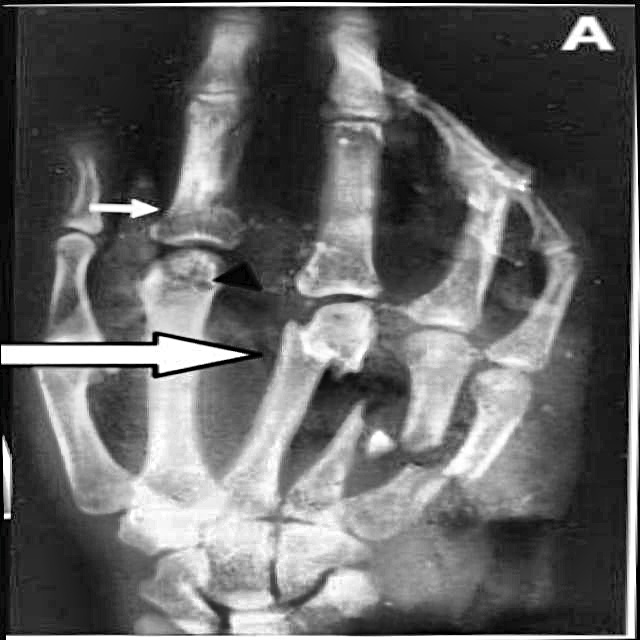Oblique Displaced: (254, 309, 380, 385)
Segmental: (308, 395, 451, 469)
Transverse Displaced: (396, 454, 500, 503)
